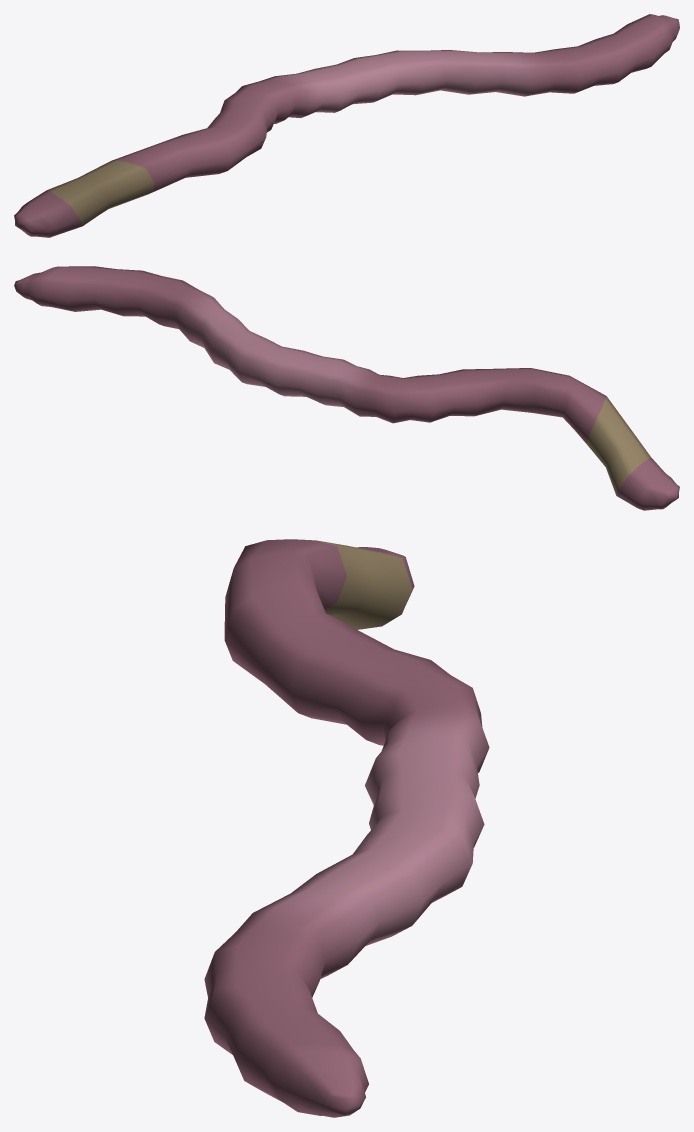
The model's file is warm.fbx.
3 views of the same model, one above another, from view 1: azimuth 30°, elevation 25°; view 2: azimuth 150°, elevation 25°; view 3: azimuth 270°, elevation 25° (orthographic). The views are drawn at different scales.
Parts seen in each view (by area): view 1: ude1:polySurface28; view 2: ude1:polySurface28; view 3: ude1:polySurface28.
Part boxes in pixels (<box>): ude1:polySurface28: <box>14,14,679,237</box>; ude1:polySurface28: <box>14,266,679,510</box>; ude1:polySurface28: <box>204,539,489,1117</box>.
Bounding box in the file's own units: 5.32 × 0.6327 × 0.9977.
